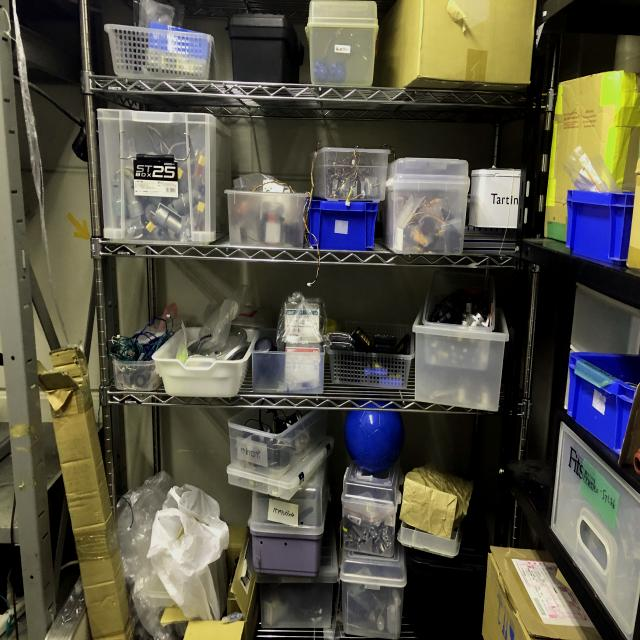blue_ball: (344, 398, 402, 472)
